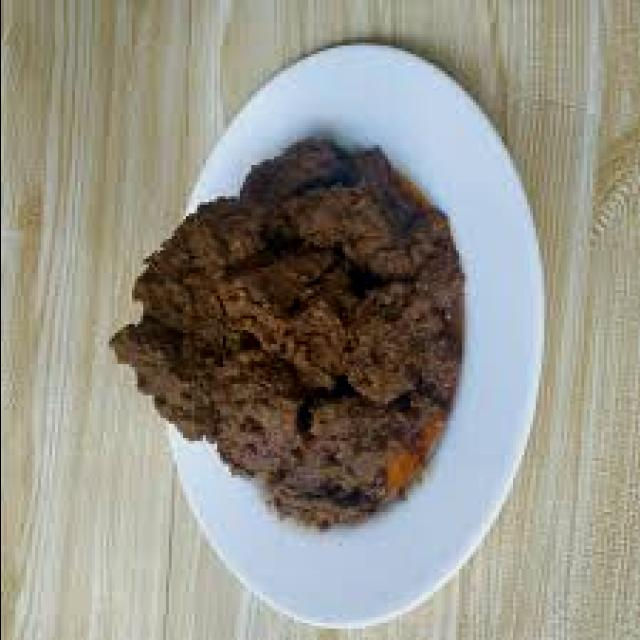rendang: (114, 139, 466, 532)
